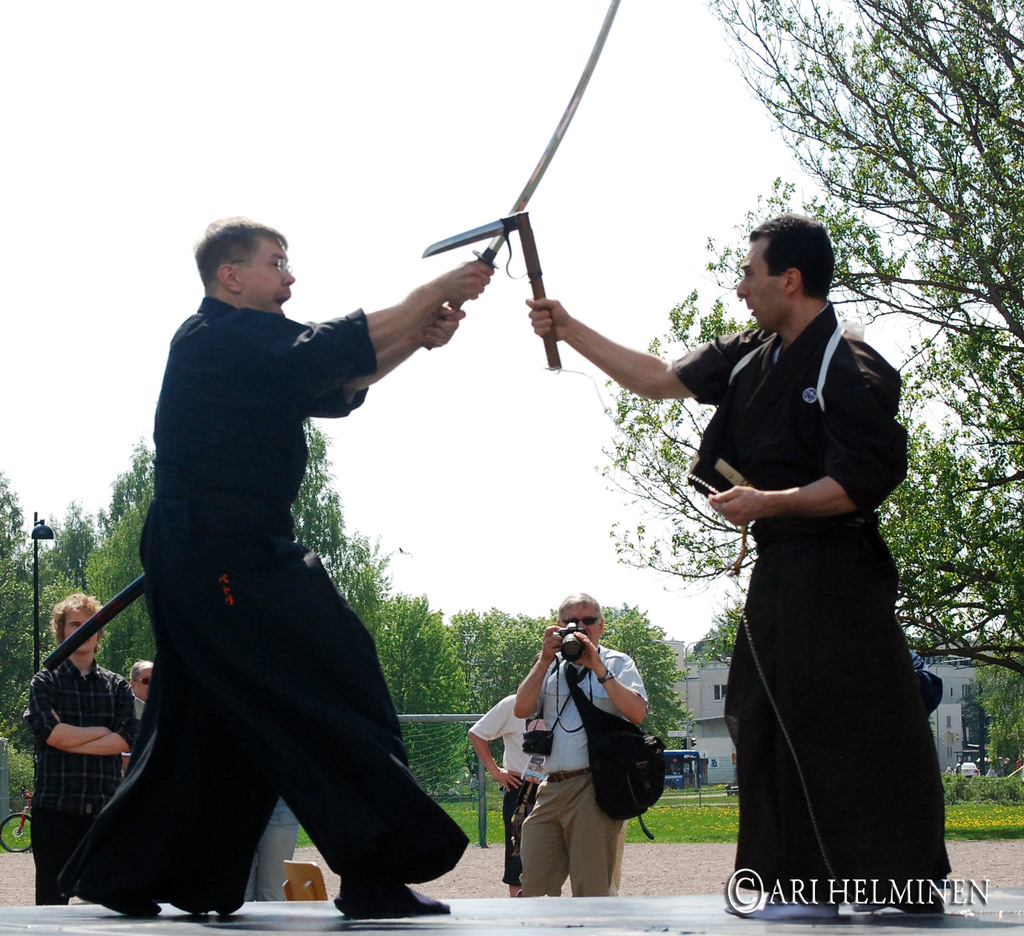Person: (22, 216, 1021, 919)
